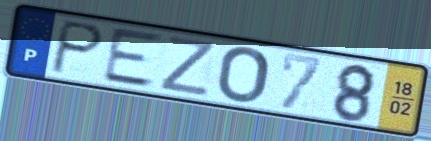7: (279, 50, 324, 112)
8: (330, 61, 378, 123)
E: (100, 26, 167, 90)
O: (215, 45, 272, 105)
P: (46, 18, 107, 77)
Z: (156, 34, 218, 99)
